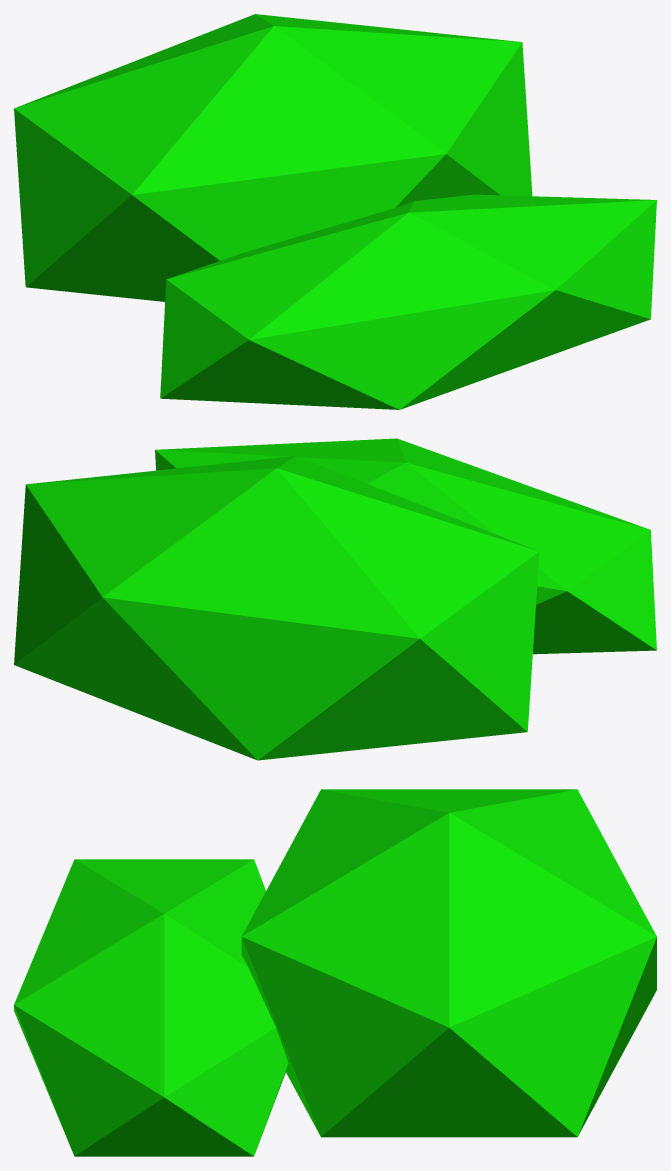
The model's file is arbolhp.glb.
3 renders of one model, top to bottom at view 1: azimuth 30°, elevation 25°; view 2: azimuth 150°, elevation 25°; view 3: azimuth 270°, elevation 25°, orthographic. The views are drawn at different scales.
Parts seen in each view (by area): view 1: Esfera geodésica.001, Esfera geodésica; view 2: Esfera geodésica.001, Esfera geodésica; view 3: Esfera geodésica.001, Esfera geodésica.
Boxes of the visible parts, bbox=[...] form: Esfera geodésica.001: bbox=[14, 14, 532, 301]; Esfera geodésica: bbox=[160, 194, 656, 409]; Esfera geodésica.001: bbox=[14, 456, 539, 760]; Esfera geodésica: bbox=[155, 438, 656, 654]; Esfera geodésica.001: bbox=[241, 789, 656, 1137]; Esfera geodésica: bbox=[14, 859, 288, 1156].
Size of the model in its own units: 15.1 by 8 by 15.48.
